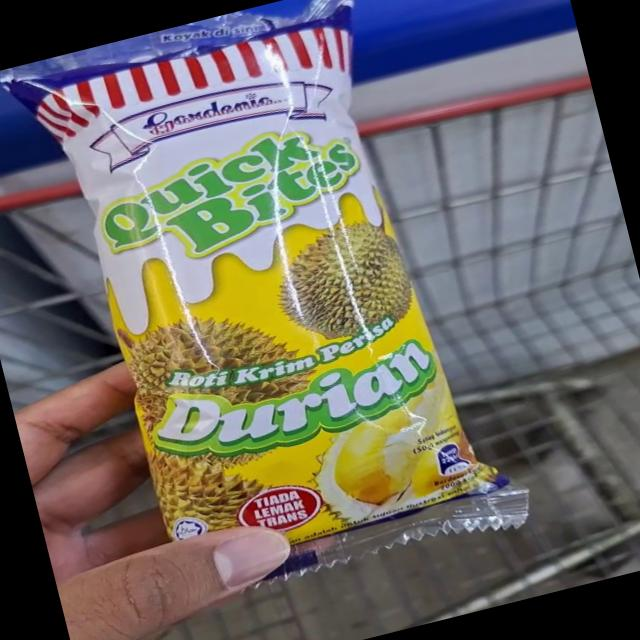Roti: (2, 0, 561, 616)
